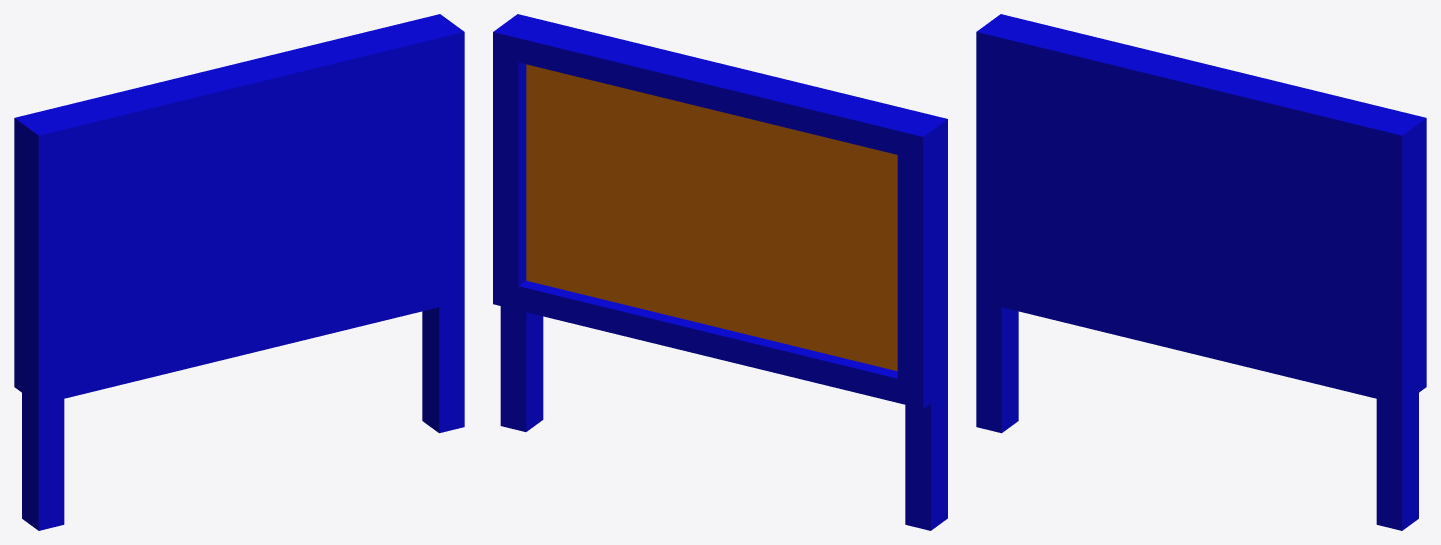
File: board.fbx
3 renders of one model, left to right at view 1: azimuth 30°, elevation 25°; view 2: azimuth 150°, elevation 25°; view 3: azimuth 330°, elevation 25°, orthographic.
Parts seen in each view (by area): view 1: Cube; view 2: Cube; view 3: Cube.
Part boxes in pixels (<box>): Cube: <box>14,14,464,530</box>; Cube: <box>493,14,947,530</box>; Cube: <box>976,14,1426,530</box>.
Bounding box in the file's own units: 517 × 459 × 51.29.
